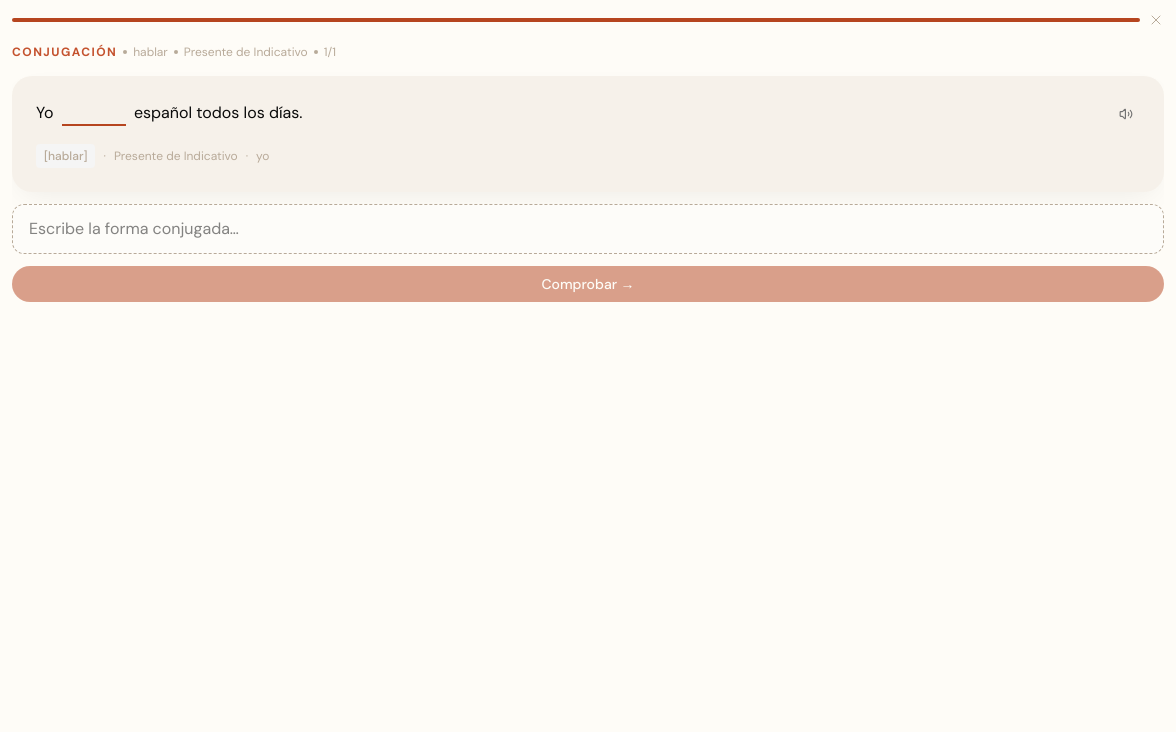
Test case: VerbSession › Try Again clears input and returns to answering phase
The image size is (1176, 732).
Type "hablas" into the field with placeholder "Escribe la forma conjugada…" at [588, 229], box 29,217 -> 1147,241
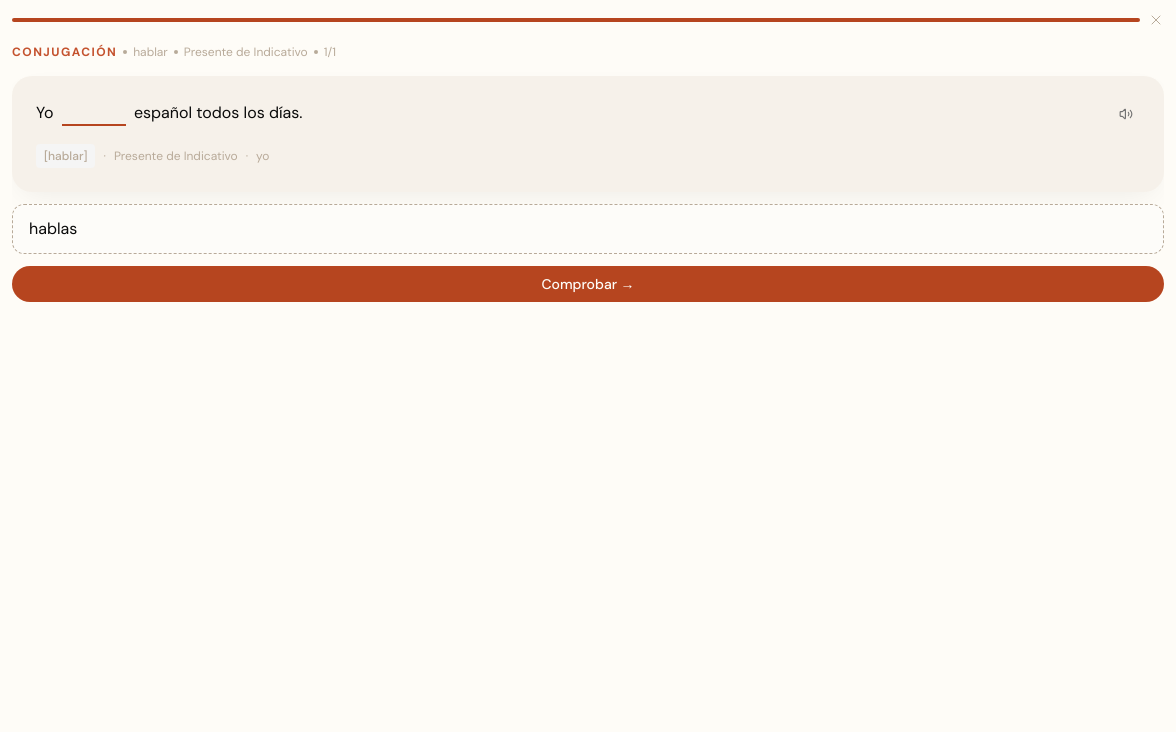
Click the button "Comprobar →" at [588, 284], box 12,266 -> 1164,302
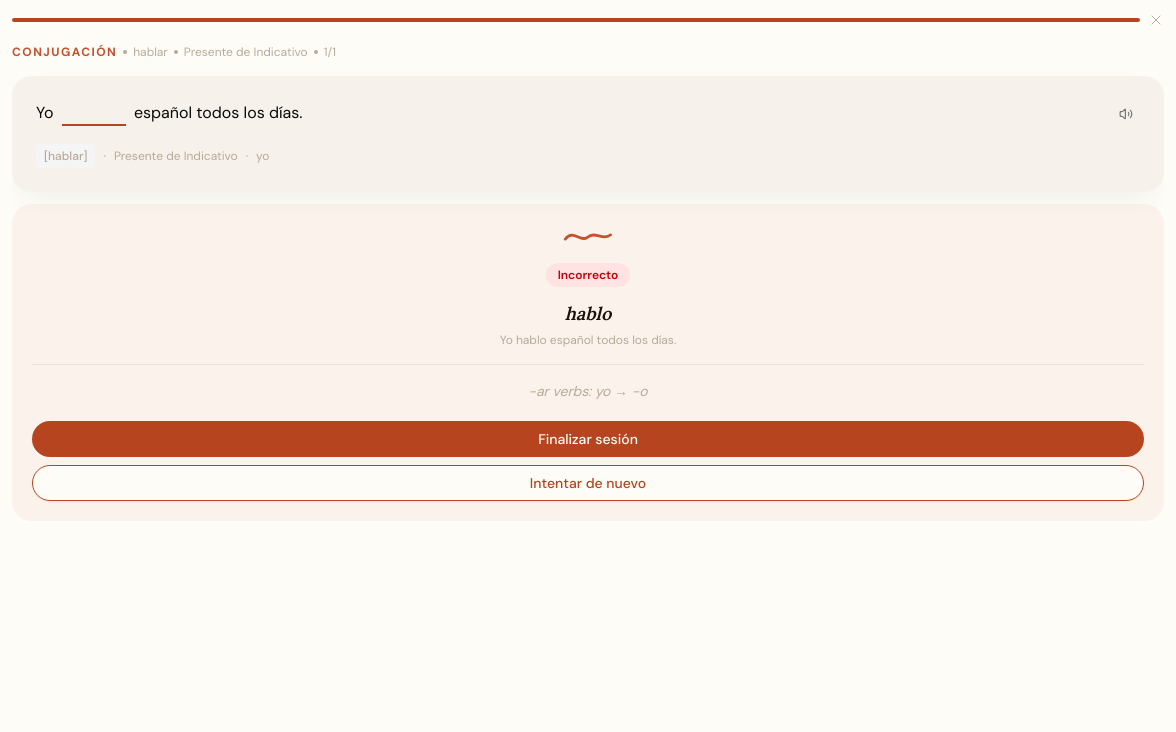
Click the button with test id "try-again-btn" at [588, 483], box 32,465 -> 1144,501
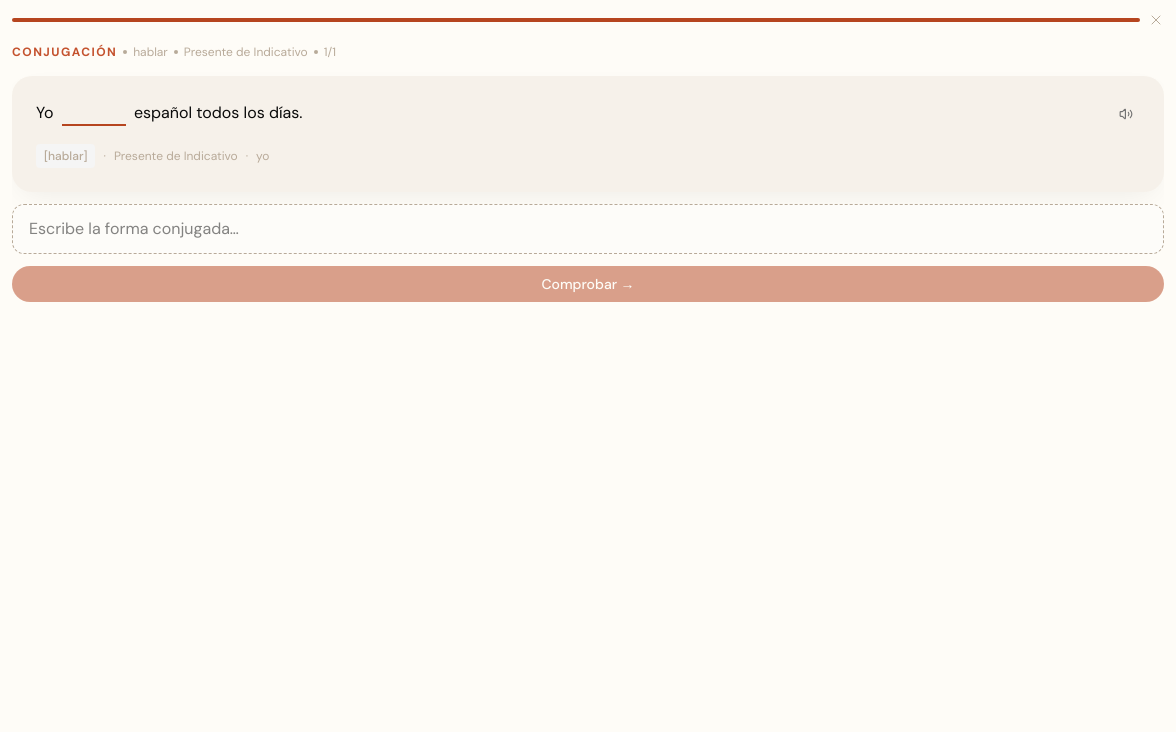
Result: the field with placeholder "Escribe la forma conjugada…" is empty at 29,217 -> 1147,241
Result: the button "Comprobar →" is shown at 12,266 -> 1164,302
